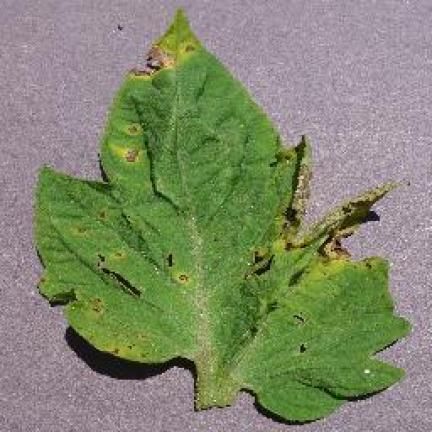disease: (35, 12, 407, 420)
leaf: (248, 136, 400, 290), (121, 13, 202, 88), (147, 47, 162, 69)
